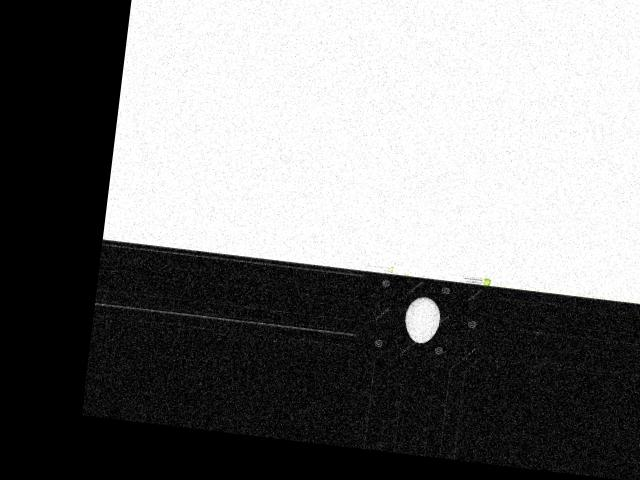egg: (401, 294, 441, 344)
